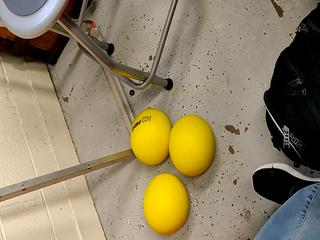power_cell: (141, 169, 191, 233), (164, 116, 214, 180), (128, 104, 178, 168)
